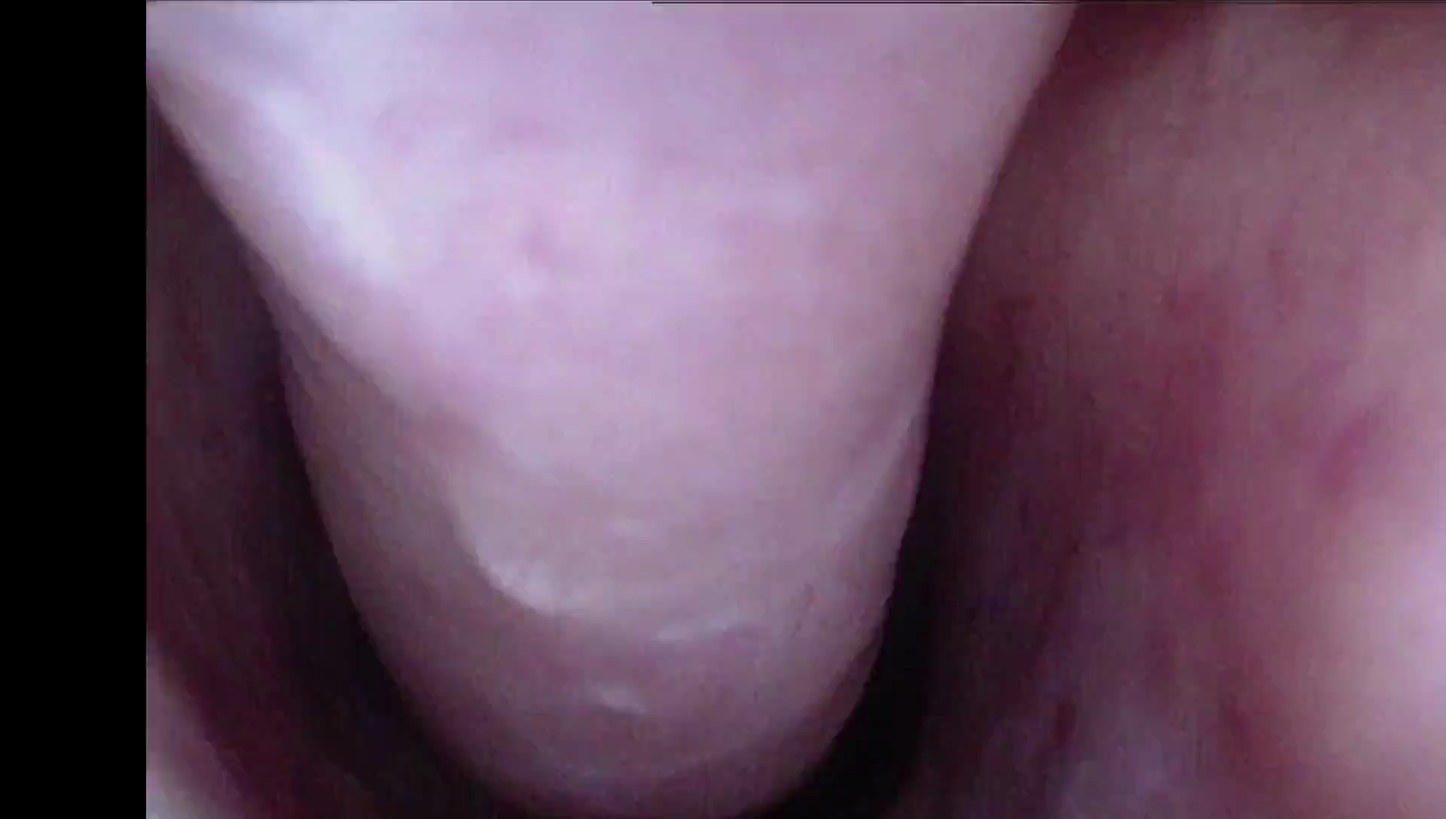close_wall: (252, 0, 1008, 366), (1211, 133, 1446, 800)
next: (728, 302, 1010, 819), (215, 346, 512, 819)
